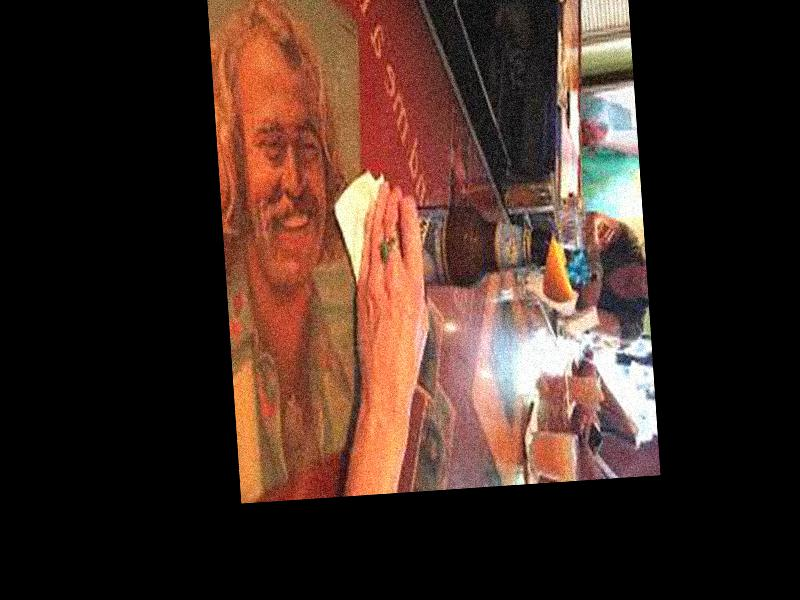Beer: (363, 194, 558, 288)
